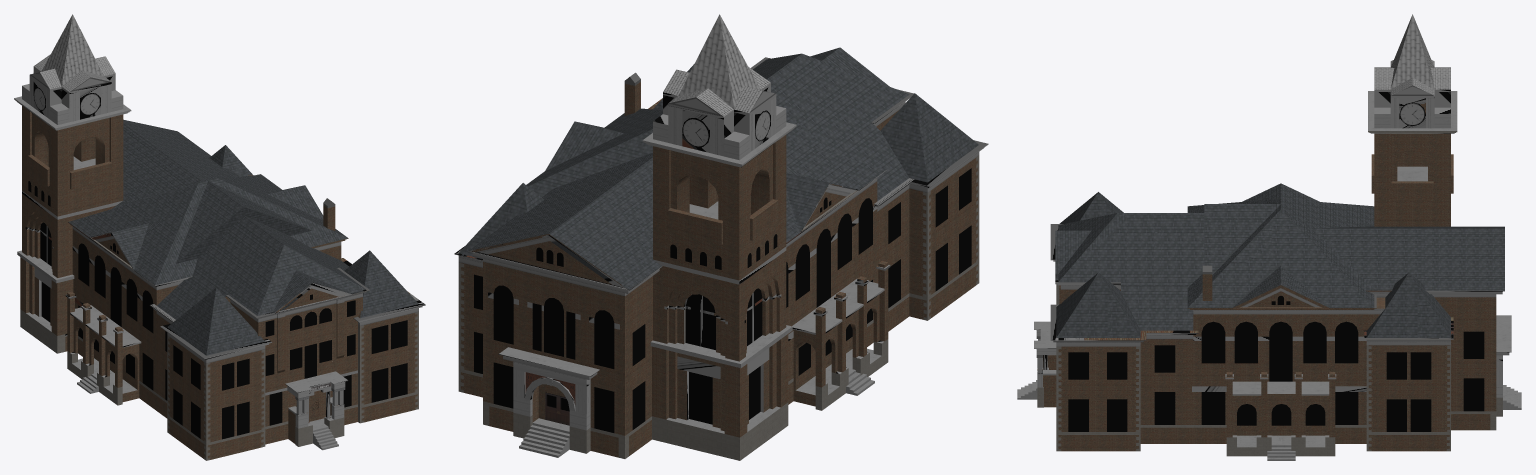
The model's file is hawkins_public_library.glb.
3 views of the same model, side by side, from view 1: azimuth 30°, elevation 25°; view 2: azimuth 150°, elevation 25°; view 3: azimuth 270°, elevation 25° (orthographic). The views are drawn at different scales.
Parts seen in each view (by area): view 1: Hawkins_Library_Convert; view 2: Hawkins_Library_Convert; view 3: Hawkins_Library_Convert.
Part boxes in pixels (box(x1,y1,x2,y2)): Hawkins_Library_Convert: box(14, 14, 425, 460); Hawkins_Library_Convert: box(454, 14, 988, 460); Hawkins_Library_Convert: box(1017, 14, 1521, 460).
Bounding box in the file's own units: 25.07 × 30.55 × 40.78.
1 material, 1 textured.
